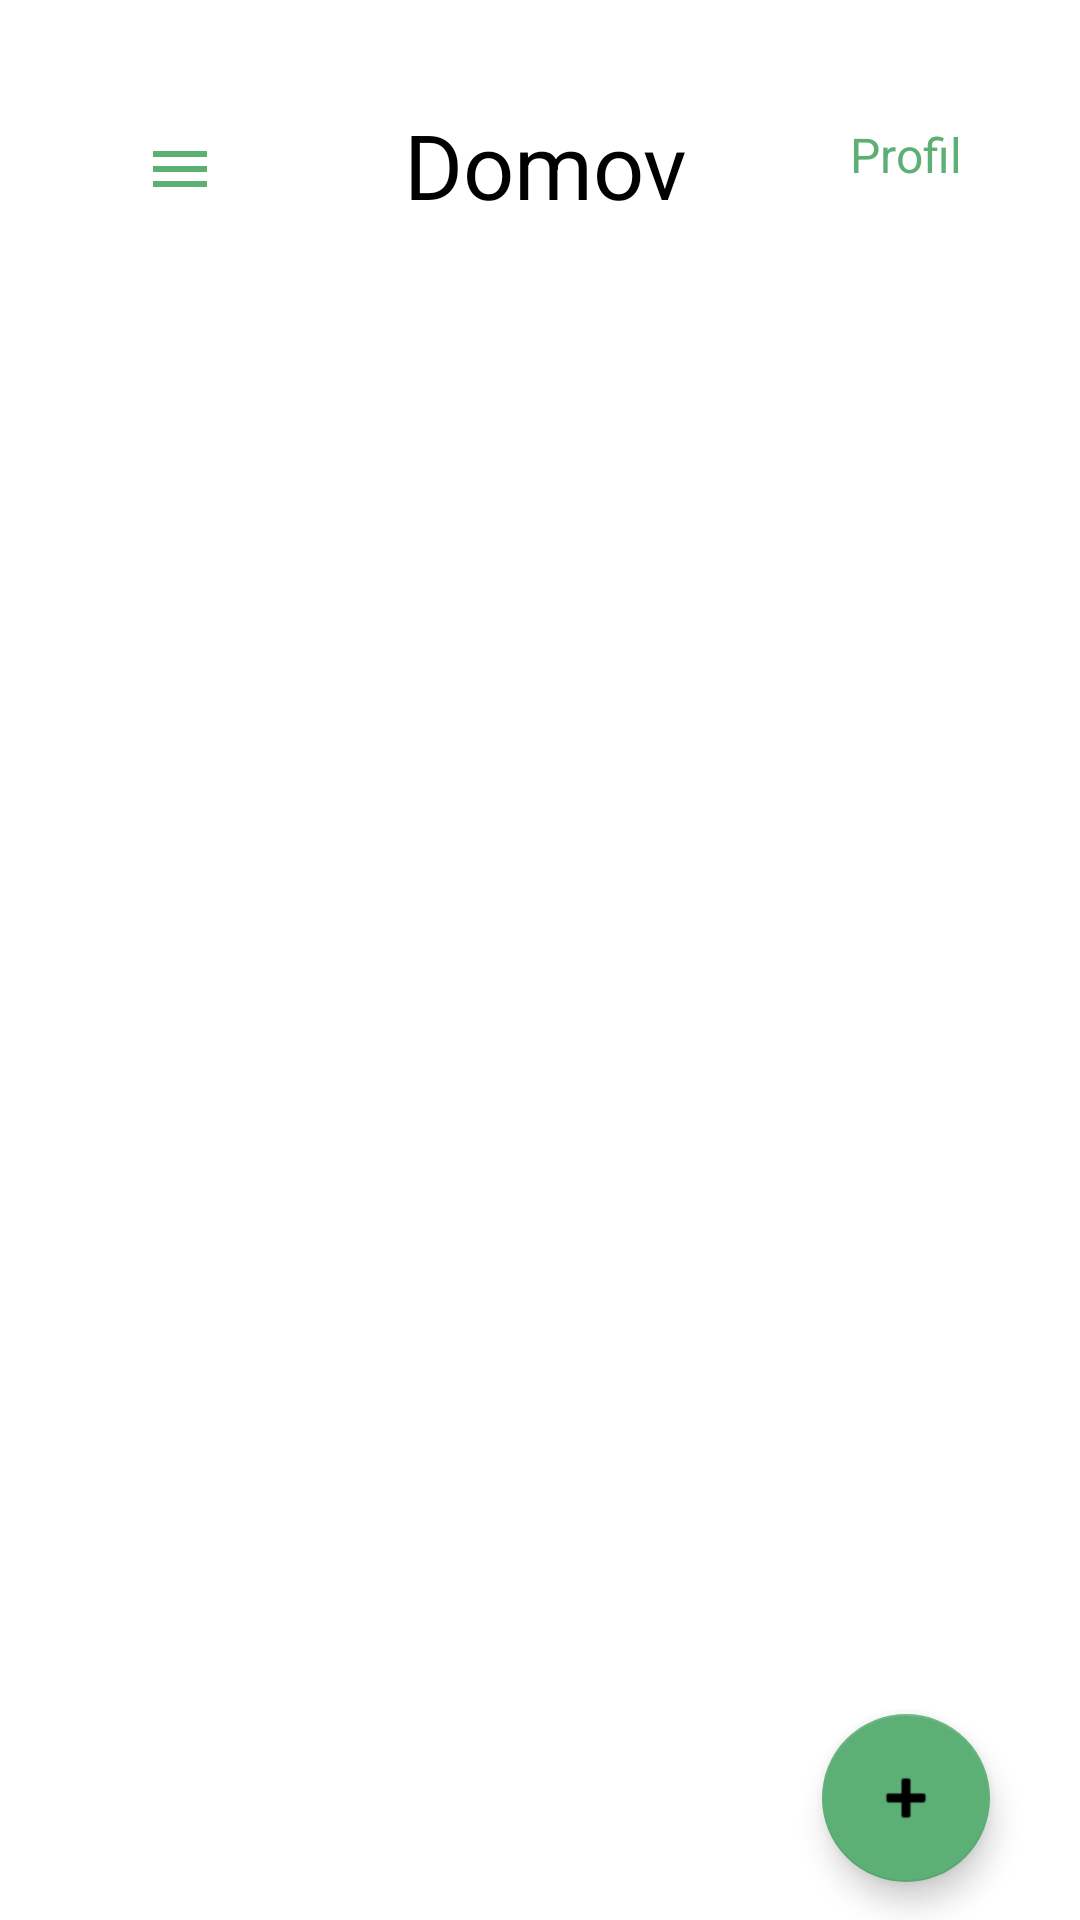

Icon click points for this 1080x1920 phone screenshot, format (x=x, y=y):
add: (x=906, y=1798)
menu: (x=180, y=169)
